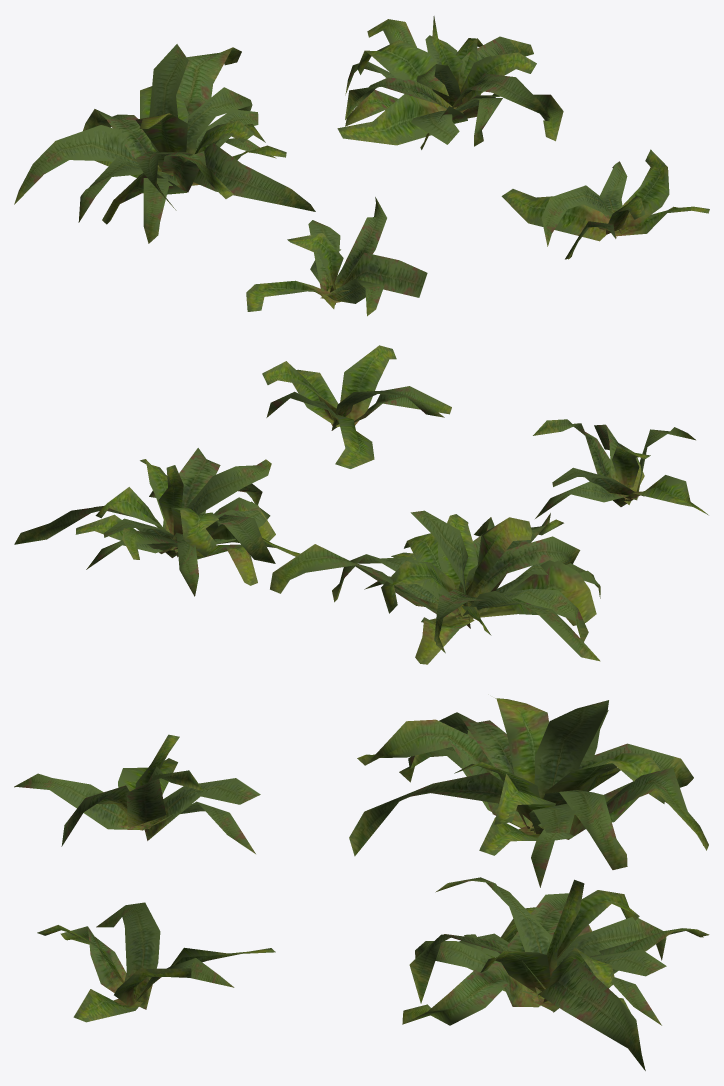
Rendered from fern_02.glb.
The picture shows the model from 3 angles, top to bottom: view 1: azimuth 30°, elevation 25°; view 2: azimuth 150°, elevation 25°; view 3: azimuth 270°, elevation 25°; orthographic projection. The views are drawn at different scales.
Parts seen in each view (by area): view 1: fern_02_b; view 2: fern_02_b; view 3: fern_02_b.
Part boxes in pixels (x1=…): fern_02_b: x1=14, y1=16, x2=709, y2=316; fern_02_b: x1=14, y1=345, x2=708, y2=664; fern_02_b: x1=14, y1=698, x2=709, y2=1070.
Size of the model in its own units: 1.97 by 0.4246 by 1.71.
1 material, 1 textured.
